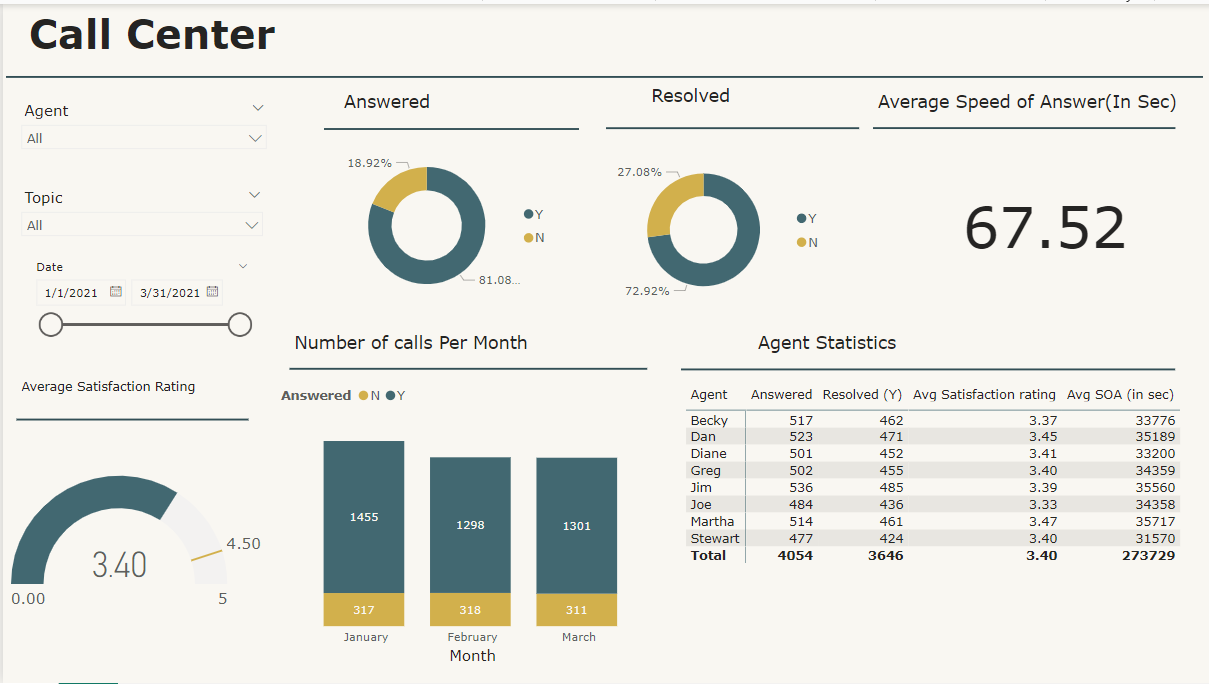

What the dashboard file says about the page in this screenshot:
{"tool":"powerbi","page":{"name":"Page 1","canvas":[1280,720],"ordinal":0},"visuals":[{"type":"slicer","fields":{"Values":["Sheet1.Agent"]},"box":[9.7,96.3,280.1,69.1],"z":0},{"type":"slicer","fields":{"Values":["Sheet1.Topic"]},"box":[9.7,189.7,276.2,57.4],"z":1000},{"type":"gauge","fields":{"Y":["Sheet1.Satisfaction rating"],"MaxValue":["Sheet1.Satisfaction rating"]},"box":[3.9,458.1,280.1,227.6],"z":2000},{"type":"textbox","box":[13.6,392,246.1,30.2],"z":3000},{"type":"donutChart","fields":{"Category":["Sheet1.Answered (Y/N)"],"Y":["Sheet1.Answered (Y/N)"]},"box":[342.4,137.1,247.1,195.5],"z":4000},{"type":"donutChart","fields":{"Category":["Sheet1.Resolved"],"Y":["Sheet1.Resolved"]},"box":[640,144,239.3,188.7],"z":5000},{"type":"card","fields":{"Values":["Sheet1.Speed of answer in seconds"]},"box":[981.4,165.3,247.1,134.2],"z":6000},{"type":"columnChart","fields":{"Y":["Sheet1.Answered (Y/N)"],"Category":["Sheet1.Date.Variation.Date Hierarchy.Month"],"Series":["Sheet1.Answered (Y/N)"]},"box":[289.8,394.9,416.3,310.3],"z":7000},{"type":"pivotTable","fields":{"Rows":["Sheet1.Agent"],"Values":["Sheet1.Answered","Sheet1.Resolved (Y)","Sheet1.Satisfaction rating","Sheet1.Speed of answer in seconds"]},"box":[718.8,399.8,545.7,286],"z":8000},{"type":"textbox","box":[357,86.6,216.9,33.1],"z":9000},{"type":"textbox","box":[682.8,79.8,239.3,47.7],"z":10000},{"type":"textbox","box":[922.1,86.6,342.4,37],"z":11000},{"type":"textbox","box":[303.5,341.4,299.6,37],"z":12000},{"type":"textbox","box":[794.7,341.4,169.2,37],"z":13000},{"type":"textbox","box":[22.4,0,289.8,68.1],"z":14000},{"type":"shape","box":[3.9,59.3,1269.3,37],"z":15000},{"type":"slicer","fields":{"Values":["Sheet1.Date"]},"box":[22.4,265.5,250,94.3],"z":17000},{"type":"shape","box":[13.6,429.9,246.1,22.4],"z":18000},{"type":"shape","box":[340.4,120.6,270.4,23.3],"z":18001},{"type":"shape","box":[640,116.7,268.4,31.1],"z":18002},{"type":"shape","box":[922.1,121.6,321,21.4],"z":18003},{"type":"shape","box":[303.5,378.4,379.3,16.5],"z":18004},{"type":"shape","box":[718.8,368.6,524.3,37],"z":18005}]}

Visuals, with their boxes in screenshot pixels (x1, y1, x2, y2), scaled from the page's 1280x720 canvas onto the 1209x684 screenshot:
slicer - Sheet1.Agent: BBox(9, 91, 274, 157)
slicer - Sheet1.Topic: BBox(9, 180, 270, 235)
gauge - Sheet1.Satisfaction rating x Sheet1.Satisfaction rating: BBox(4, 435, 268, 651)
textbox: BBox(13, 372, 245, 401)
donutChart - Sheet1.Answered (Y/N) x Sheet1.Answered (Y/N): BBox(323, 130, 557, 316)
donutChart - Sheet1.Resolved x Sheet1.Resolved: BBox(604, 137, 831, 316)
card - Sheet1.Speed of answer in seconds: BBox(927, 157, 1160, 285)
columnChart - Sheet1.Answered (Y/N) x Sheet1.Date.Variation.Date Hierarchy.Month: BBox(274, 375, 667, 670)
pivotTable - Sheet1.Agent x Sheet1.Answered: BBox(679, 380, 1194, 652)
textbox: BBox(337, 82, 542, 114)
textbox: BBox(645, 76, 871, 121)
textbox: BBox(871, 82, 1194, 117)
textbox: BBox(287, 324, 570, 359)
textbox: BBox(751, 324, 910, 359)
textbox: BBox(21, 0, 295, 65)
shape: BBox(4, 56, 1203, 91)
slicer - Sheet1.Date: BBox(21, 252, 257, 342)
shape: BBox(13, 408, 245, 430)
shape: BBox(322, 115, 577, 137)
shape: BBox(604, 111, 858, 140)
shape: BBox(871, 116, 1174, 136)
shape: BBox(287, 359, 645, 375)
shape: BBox(679, 350, 1174, 385)
